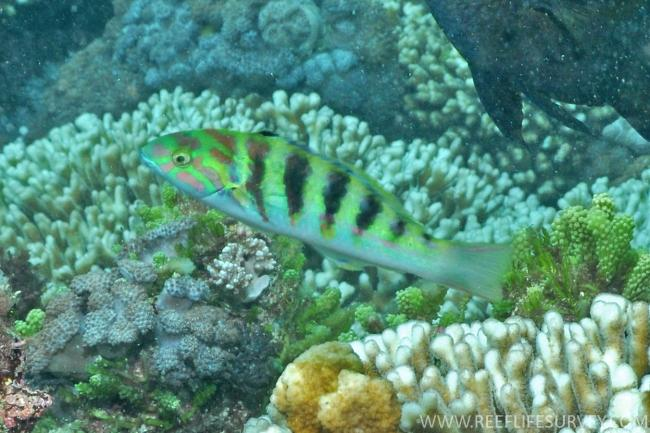fish: (139, 129, 513, 303)
